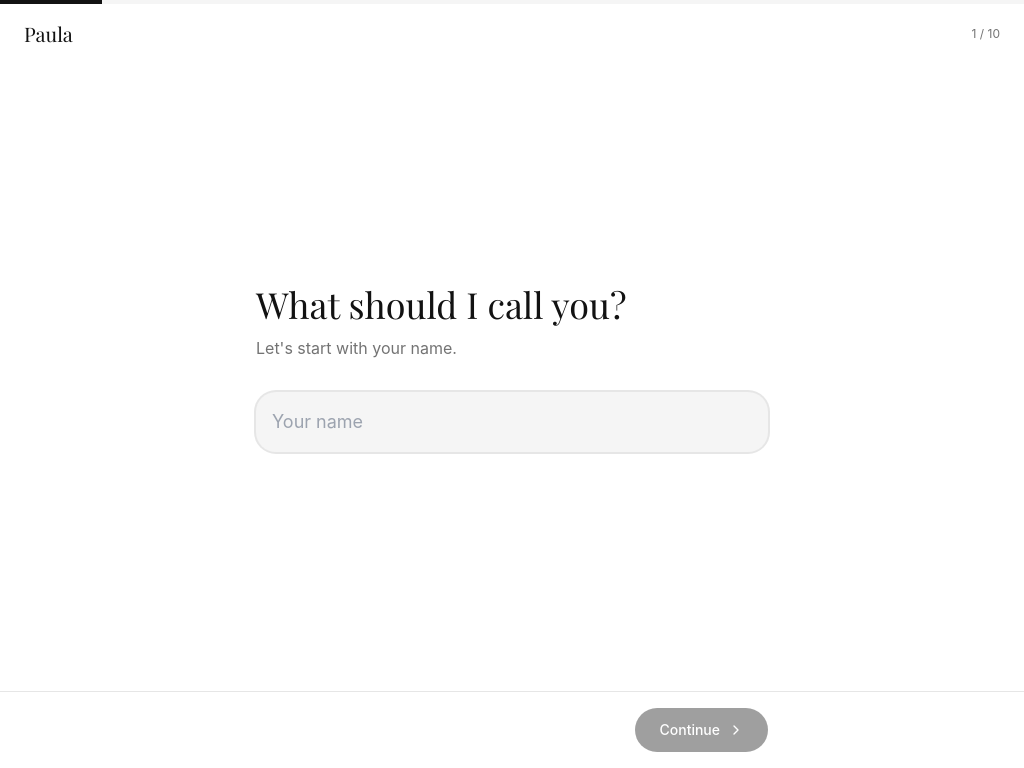
Onboarding — sensowność wpisanych wymiarów › says nothing about ordinary measurements
This screenshot has width=1024, height=768.
Later steps or results of the test are not shown.
Type "Gabriela" into the field with placeholder "Your name" at {"x": 512, "y": 422}, box [256, 392, 768, 452]
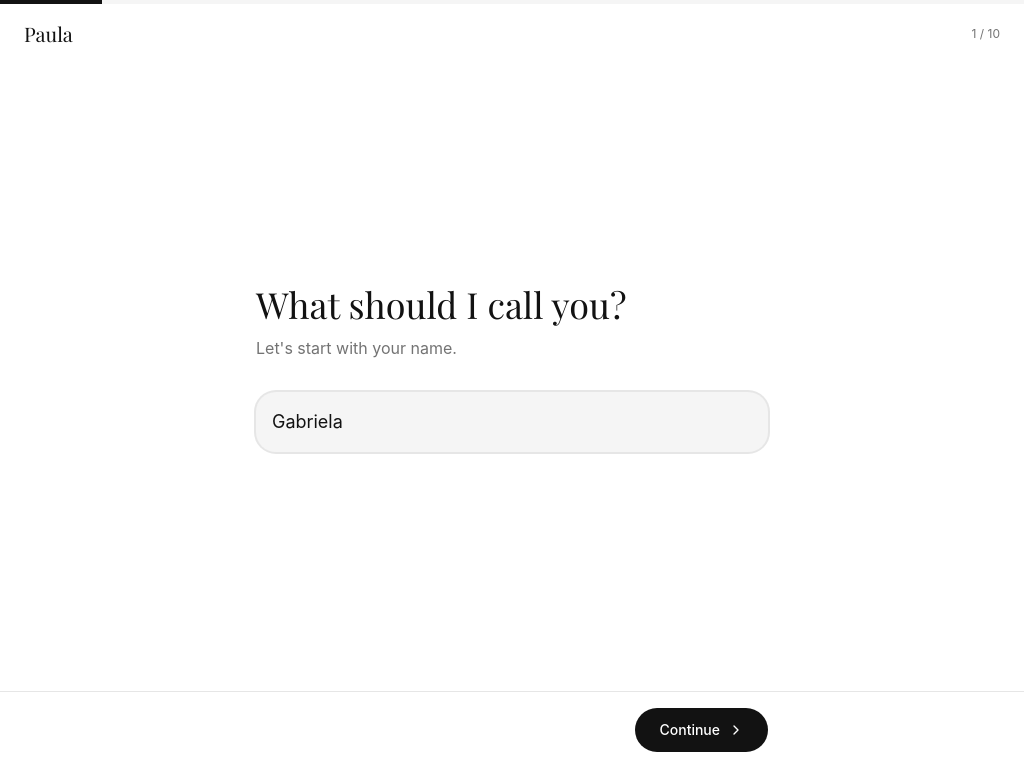
Expected: the button "Continue" is enabled
Click the button "Continue" at {"x": 702, "y": 730}, box [636, 708, 768, 752]
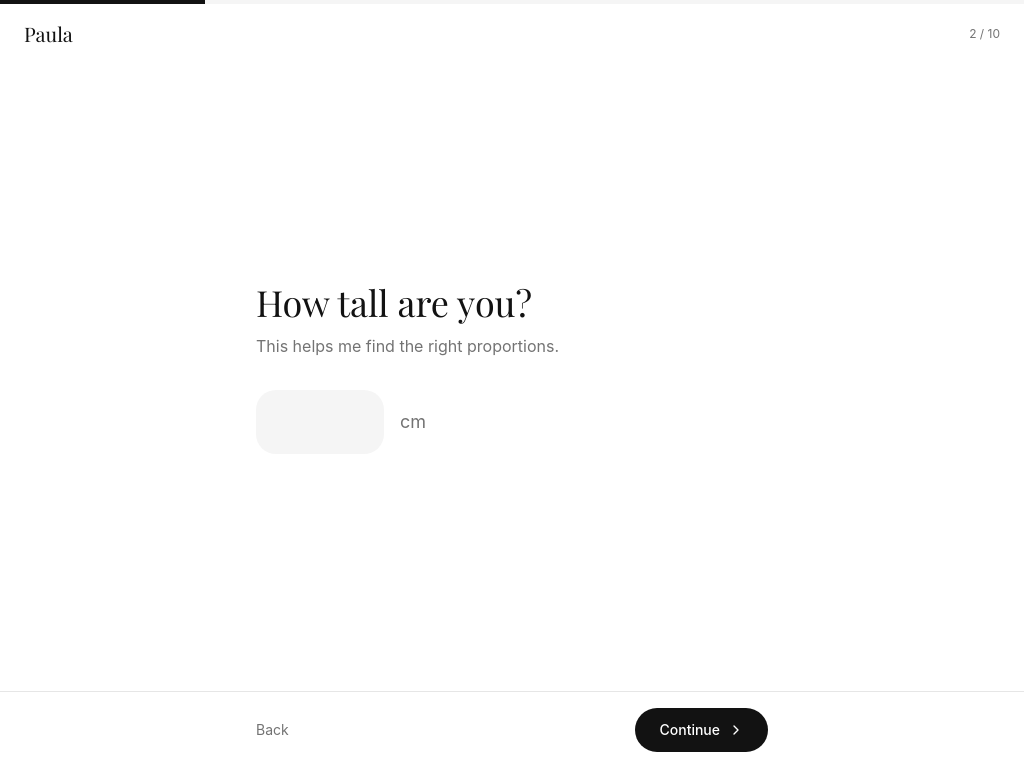
Expected: the button "Continue" is enabled, [636, 708, 768, 752]
